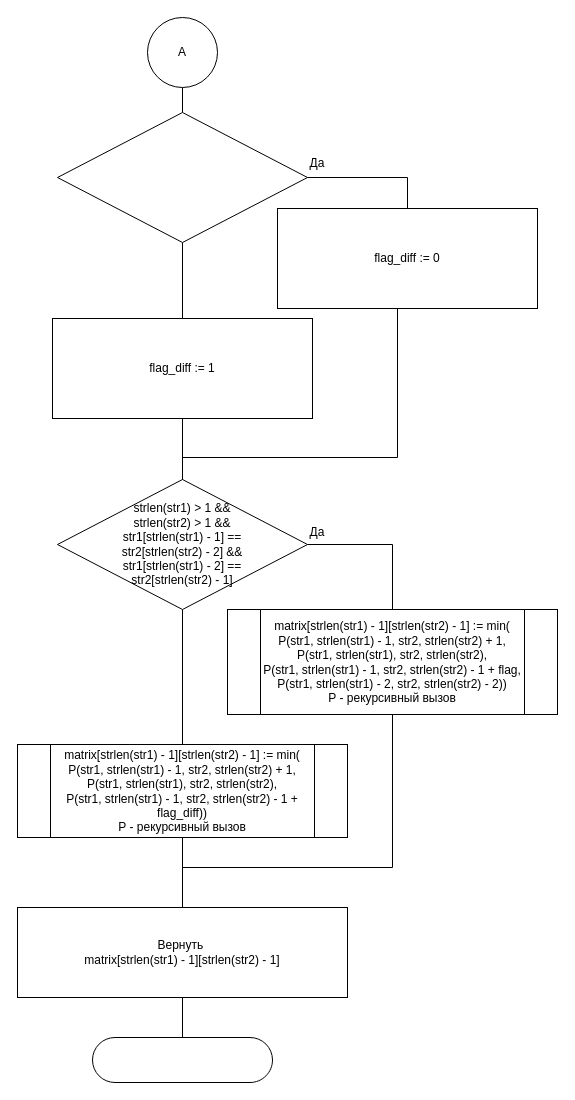
Image size: 575x1100. Some labels were removed from this diagram. Each missing label, with the box of its shape:
str1[strlen(str1) - 1] == str2[strlen(str2) - 1]: (56, 112, 308, 242)
Конец: (92, 1036, 272, 1082)
